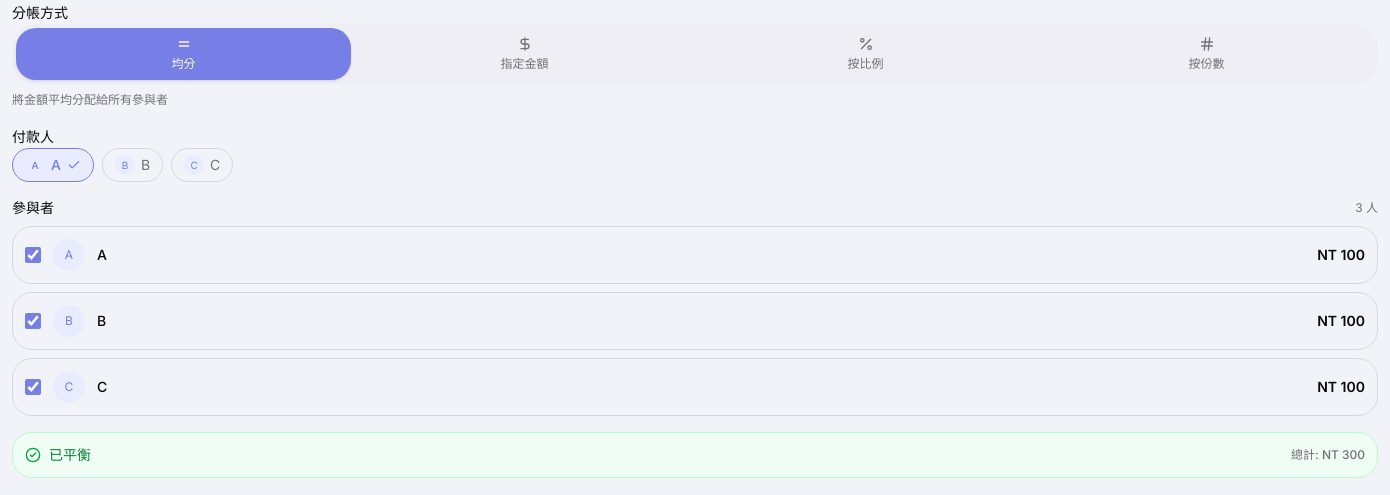
SplitConfigurator › excluding a participant recomputes the equal split (300 / 2 per person)
// 取消勾選 C → 只剩 A、B 均分
Click the checkbox named "C": [33, 387] box [25, 379, 41, 395]
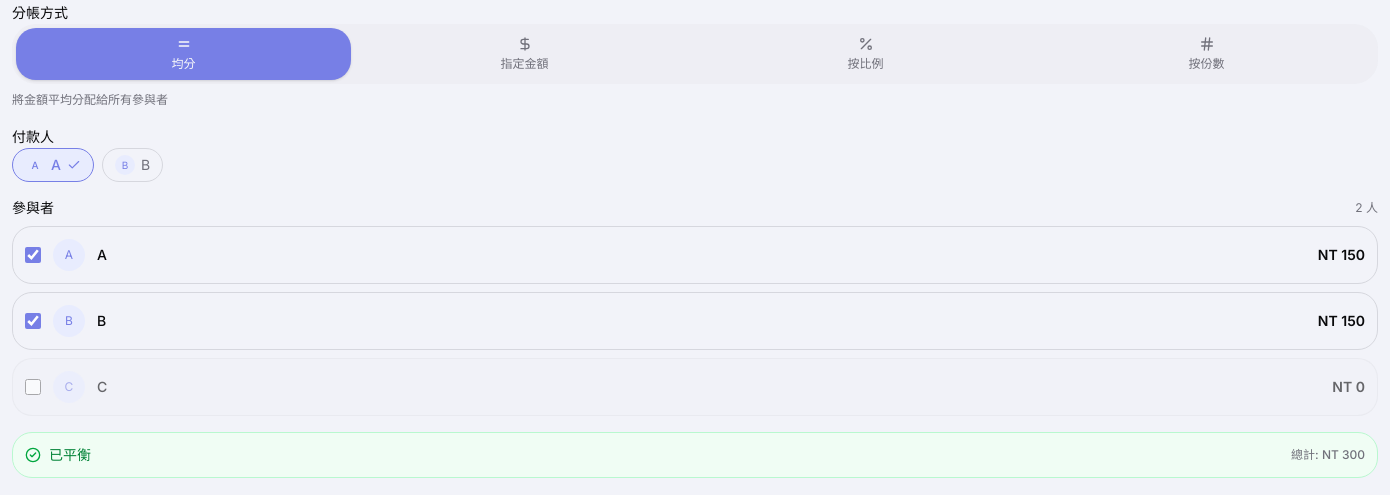
Expected: the text "2 人" is shown, [1355, 200, 1378, 216]
